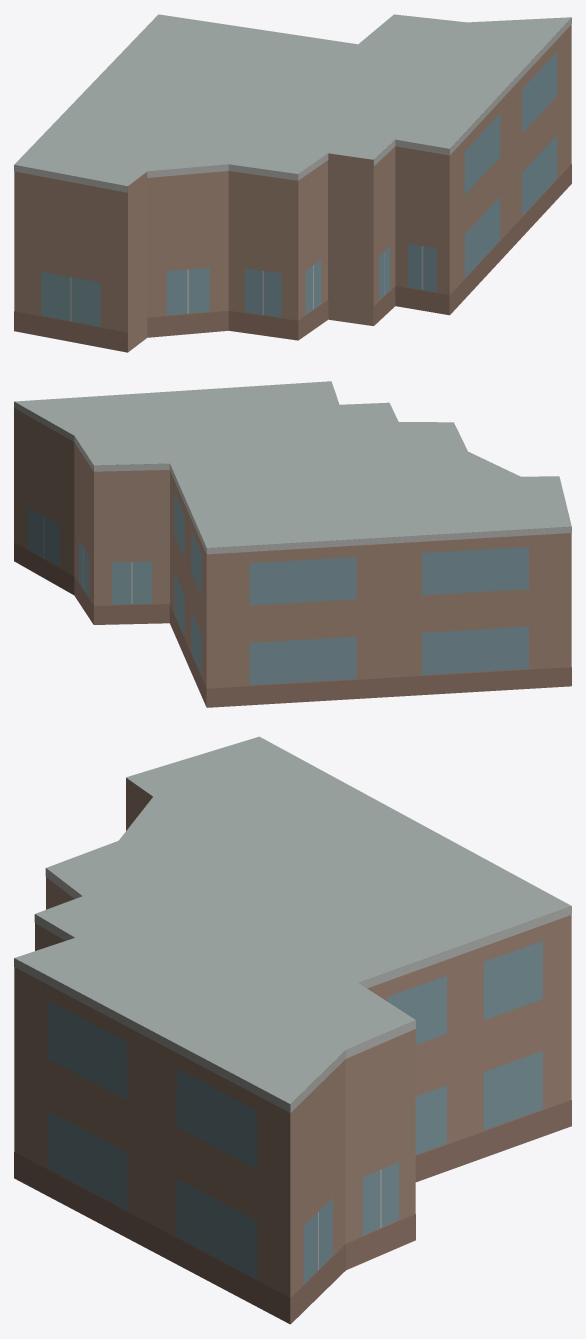
Rendered from survey-upis-32846625.glb.
The picture shows the model from 3 angles, top to bottom: view 1: azimuth 30°, elevation 25°; view 2: azimuth 150°, elevation 25°; view 3: azimuth 270°, elevation 25°; orthographic projection. The views are drawn at different scales.
Visible parts, largest first — view 1: survey-upis-32846625.tmp; view 2: survey-upis-32846625.tmp; view 3: survey-upis-32846625.tmp.
Part boxes in pixels (x1,y1,x2,y2): survey-upis-32846625.tmp: (14,14,571,352); survey-upis-32846625.tmp: (14,381,571,707); survey-upis-32846625.tmp: (14,736,571,1324).
Size of the model in its own units: 21.85 by 6.1 by 14.01.
